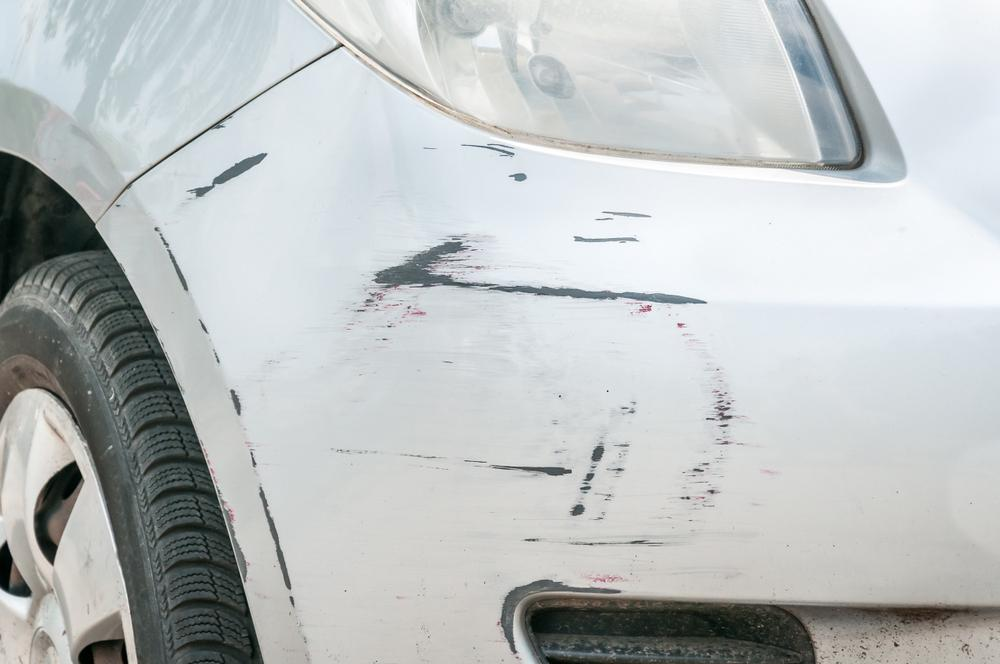scratch: (280, 139, 741, 660), (152, 149, 295, 611)
